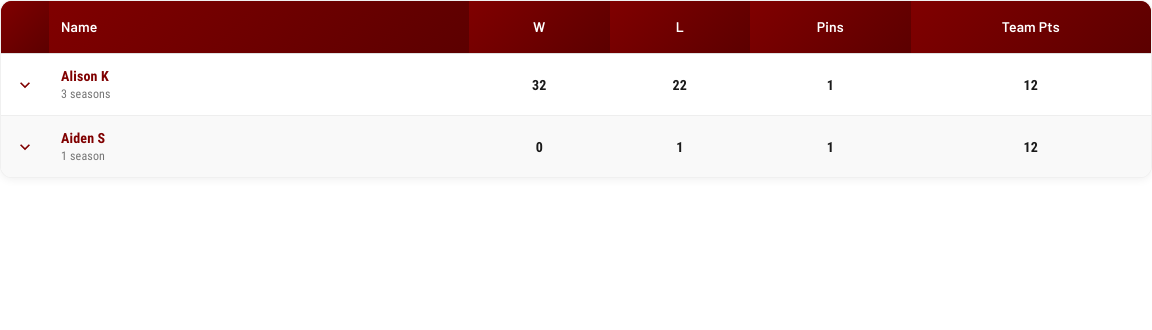
Test: RecordsTable › opens a wrestler to their seasons, newest first, and closes again
The image size is (1152, 330).
Click the button named "Alison K's record by season": {"x": 25, "y": 85} top-left (10, 70), bottom-right (40, 100)
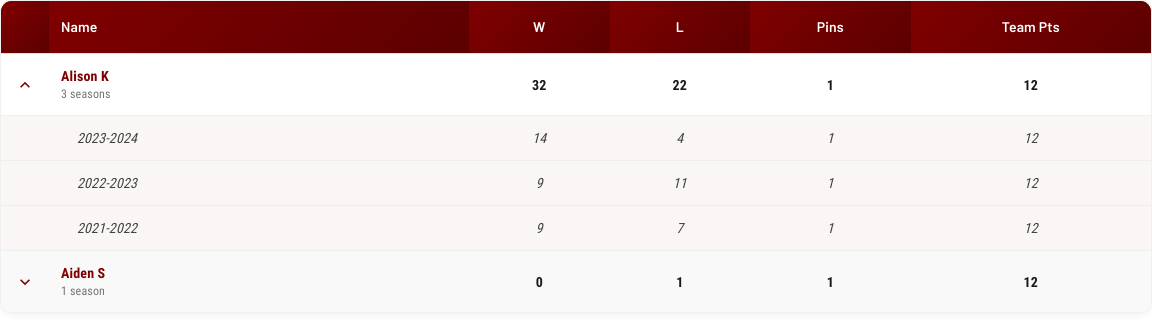
Now the button named "Alison K's record by season" is expanded
Click the button named "Alison K's record by season": {"x": 25, "y": 85} top-left (10, 70), bottom-right (40, 100)
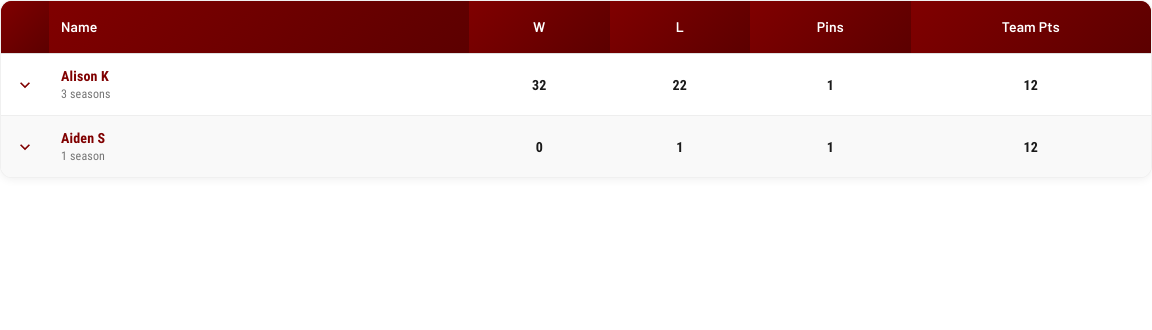
Now the text "2023-2024" is gone
